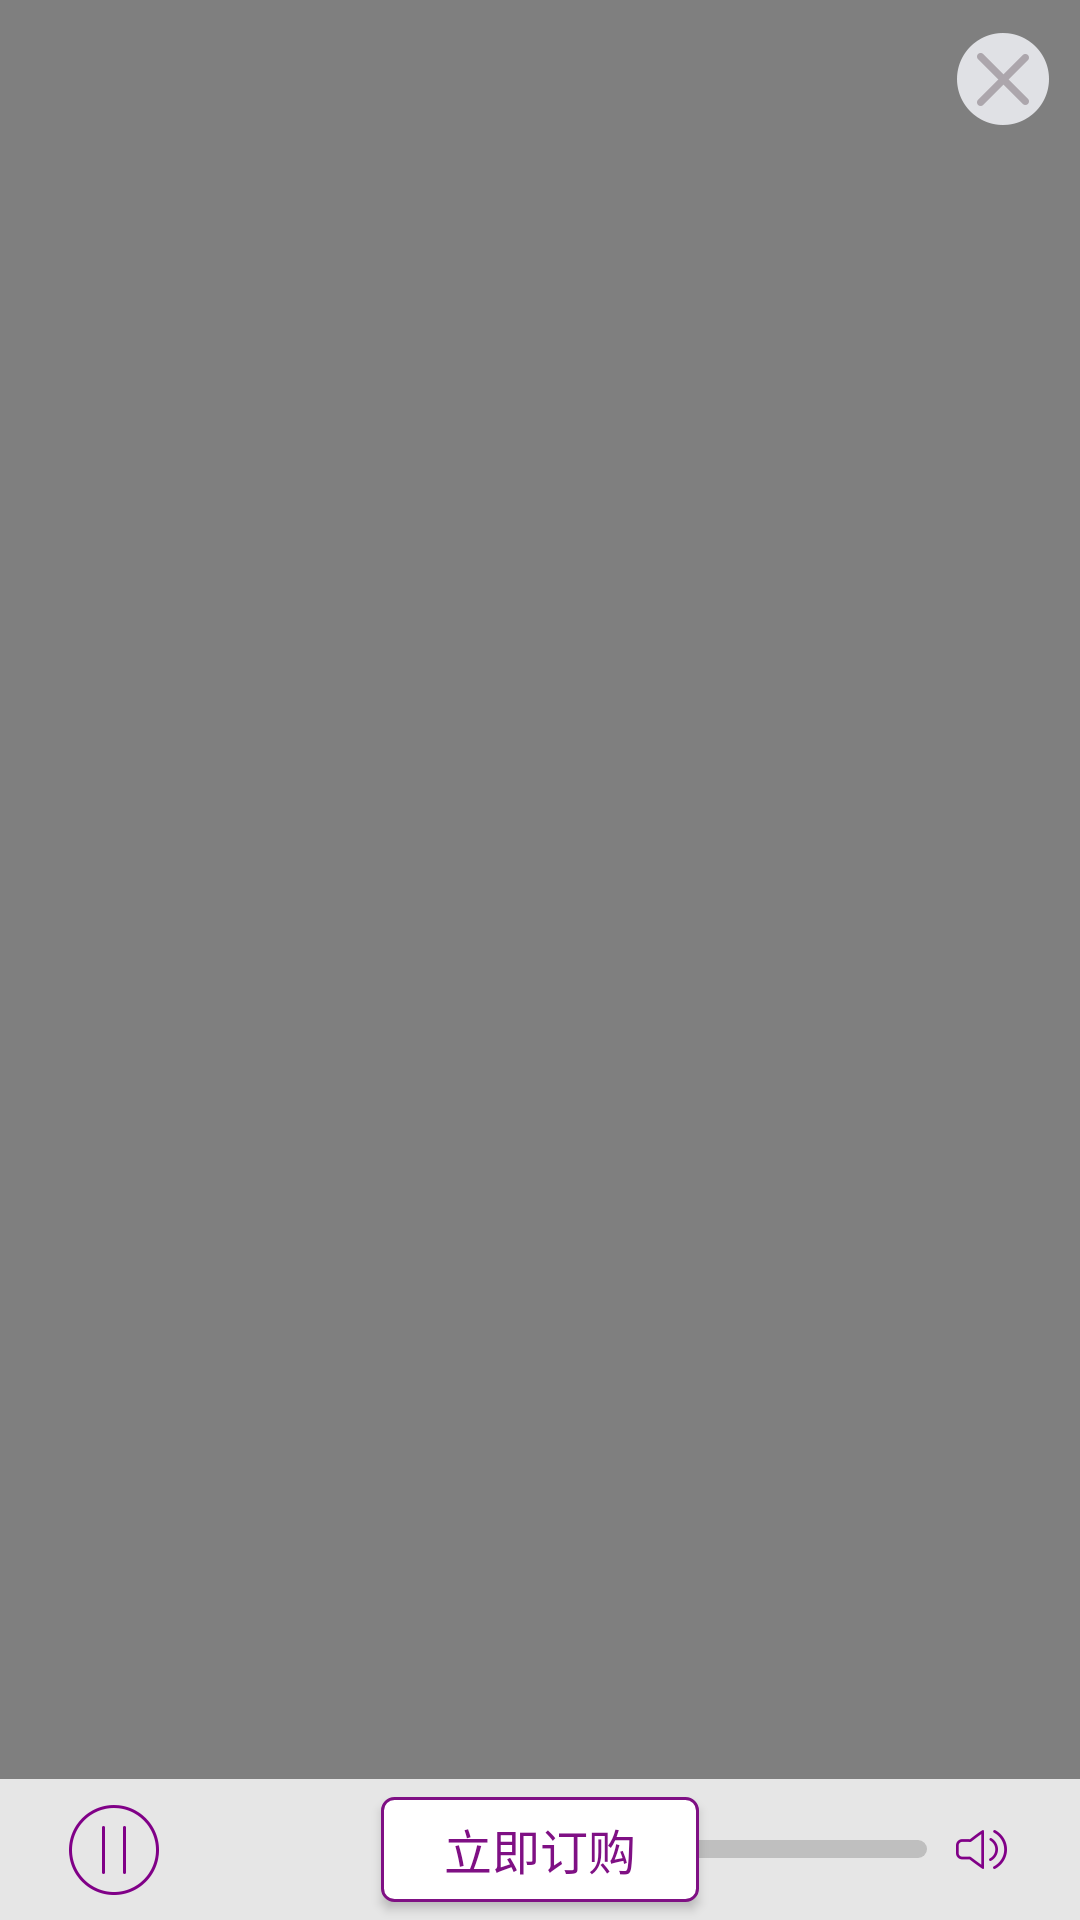

Icons on this 1080 × 1920 Android screen, each with the point to tap as [x,y]:
lottory close: [1003,79]
pause: [114,1850]
volume up: [981,1849]
